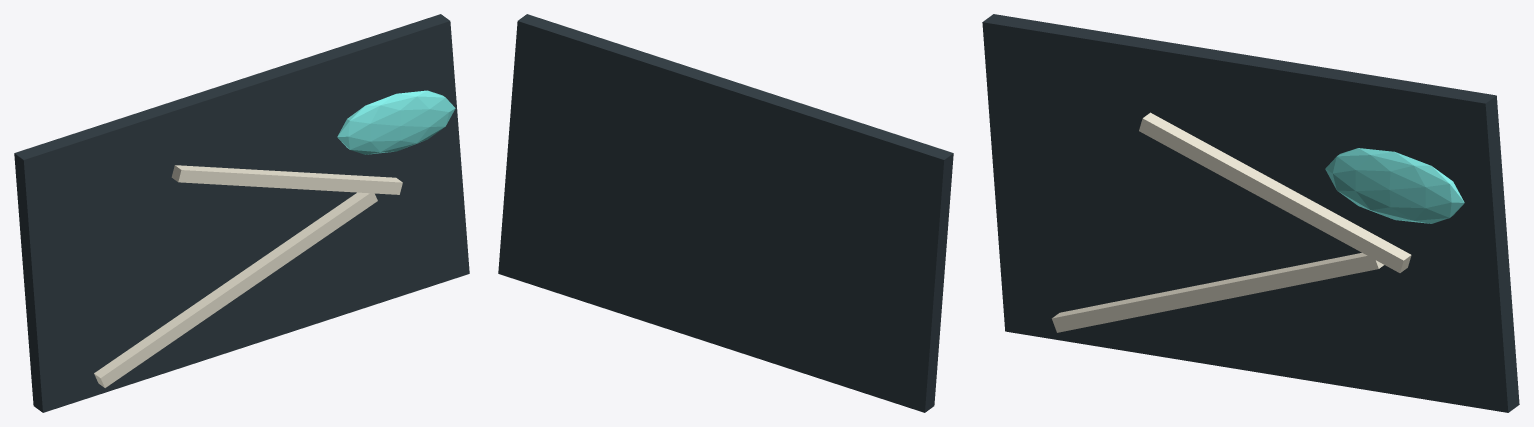
The model's file is 04_weathering_wear_overlay_4.glb.
The picture shows the model from 3 angles, left to right: view 1: azimuth 30°, elevation 25°; view 2: azimuth 150°, elevation 25°; view 3: azimuth 330°, elevation 25°; orthographic projection. The views are drawn at different scales.
Visible parts, largest first — view 1: wear_plate, scratch_a, rust_or_moss_spot, scratch_b; view 2: wear_plate; view 3: wear_plate, rust_or_moss_spot, scratch_b, scratch_a.
Part boxes in pixels (bbox=[...]): wear_plate: bbox=[14, 14, 469, 412]; scratch_a: bbox=[94, 192, 377, 387]; rust_or_moss_spot: bbox=[337, 90, 455, 154]; scratch_b: bbox=[171, 165, 402, 194]; wear_plate: bbox=[498, 14, 953, 412]; wear_plate: bbox=[982, 14, 1519, 412]; rust_or_moss_spot: bbox=[1325, 148, 1464, 223]; scratch_b: bbox=[1139, 112, 1411, 272]; scratch_a: bbox=[1052, 253, 1383, 332].
Bounding box in the file's own units: 1.35 × 0.8494 × 0.134.
